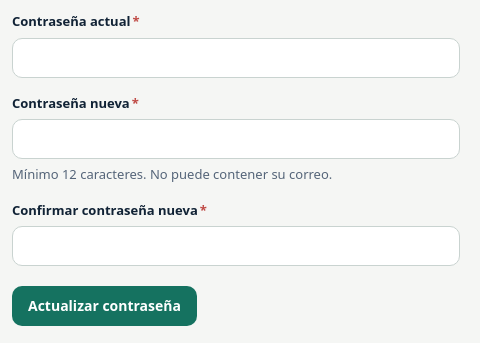
Test: ChangePasswordForm › rejects passwords that contain the email, ignoring case
Step 1. Type "actual-1234567" into the password field labelled "Contraseña actual*" → (236, 58), box [12, 38, 460, 78]
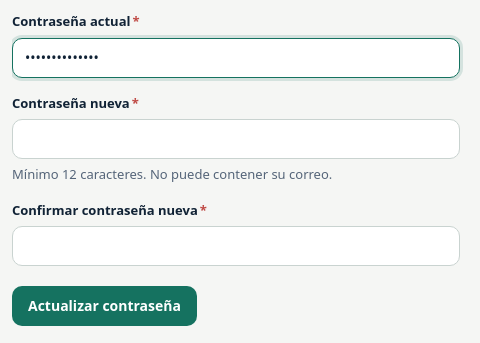
Step 2. Type "X-ANA@RIMETRIK.TEST-1" into the password field labelled "Contraseña nueva*" → (236, 139), box [12, 119, 460, 159]
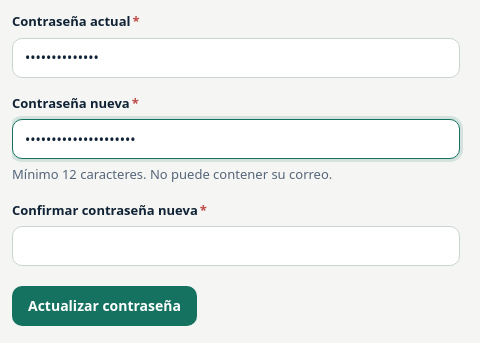
Step 3. Type "X-ANA@RIMETRIK.TEST-1" into the password field labelled "Confirmar contraseña nueva*" → (236, 246), box [12, 226, 460, 266]
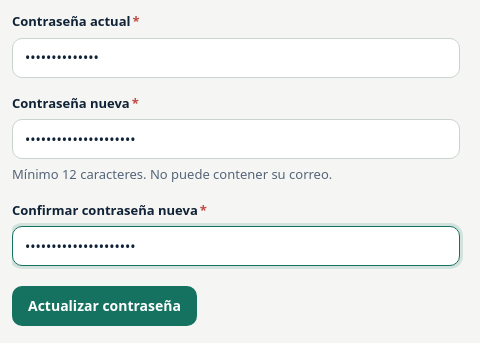
Step 4. Click the button "Actualizar contraseña" → (104, 306), box [12, 286, 197, 326]
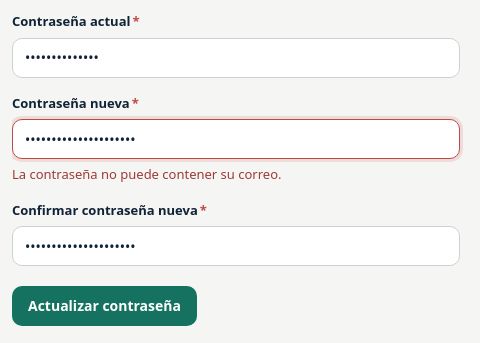
Check: the text "La contraseña no puede contener su correo." is shown, box [12, 165, 282, 183]
